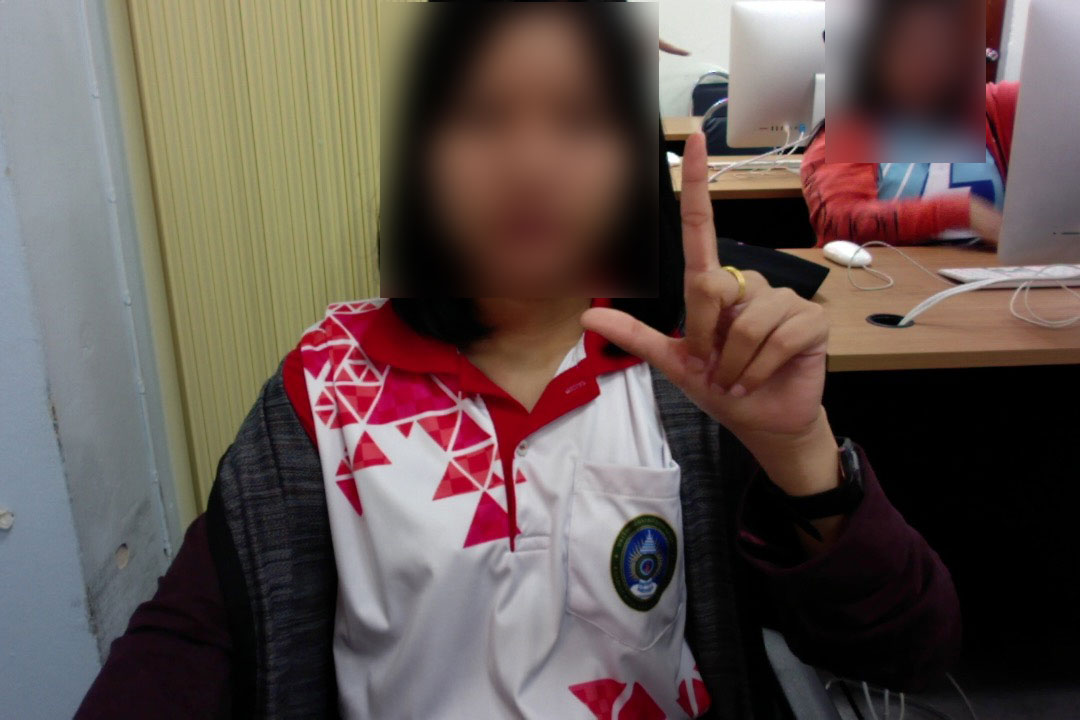lor: (565, 123, 858, 470)
